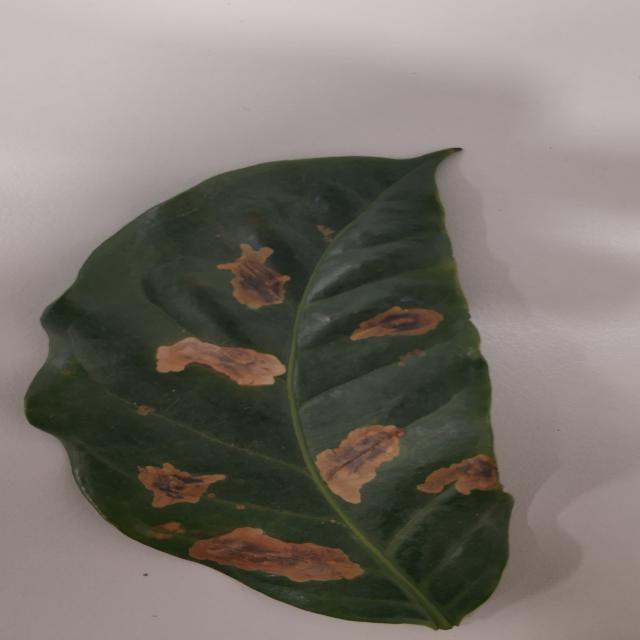Plaga-Minador: (23, 149, 515, 632)
